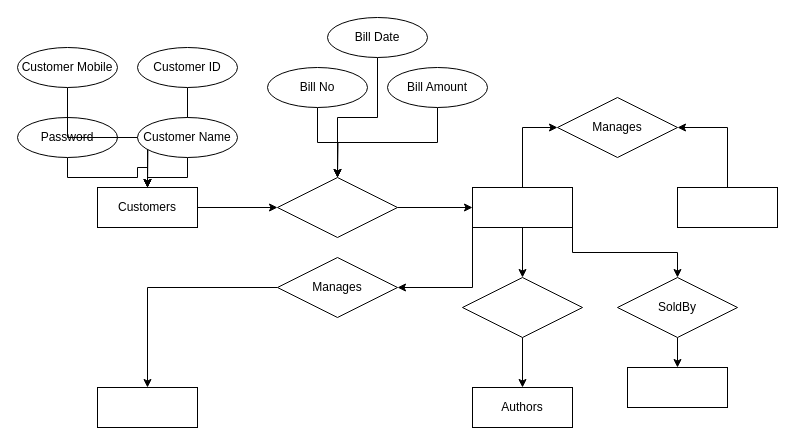
Some shapes in this 795 by 445 pixel diagram are drawn without their labels. The shapes that lost their labels are listed below. From the top down, each one's centre as x and y in pixels, then its label:
point (337, 207): Purchases
point (522, 207): Books
point (727, 207): Category
point (522, 307): Written
point (147, 407): Employees
point (677, 387): Suppliers
